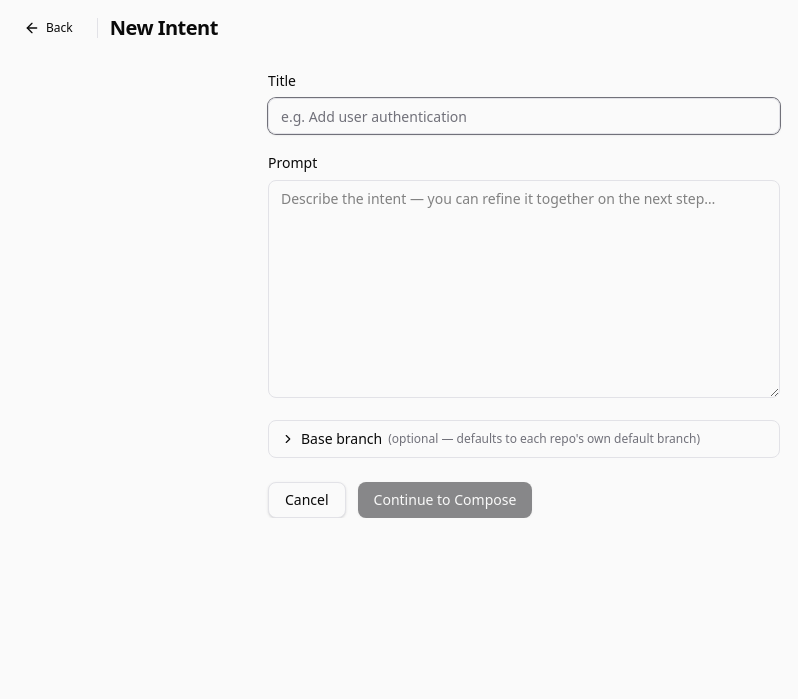
Scenario: NewIntentPage — base branch selection › fetches each repo branch list once the section is expanded
This screenshot has width=798, height=699.
Click the button "Base branch" at {"x": 524, "y": 439}, box [269, 421, 779, 457]
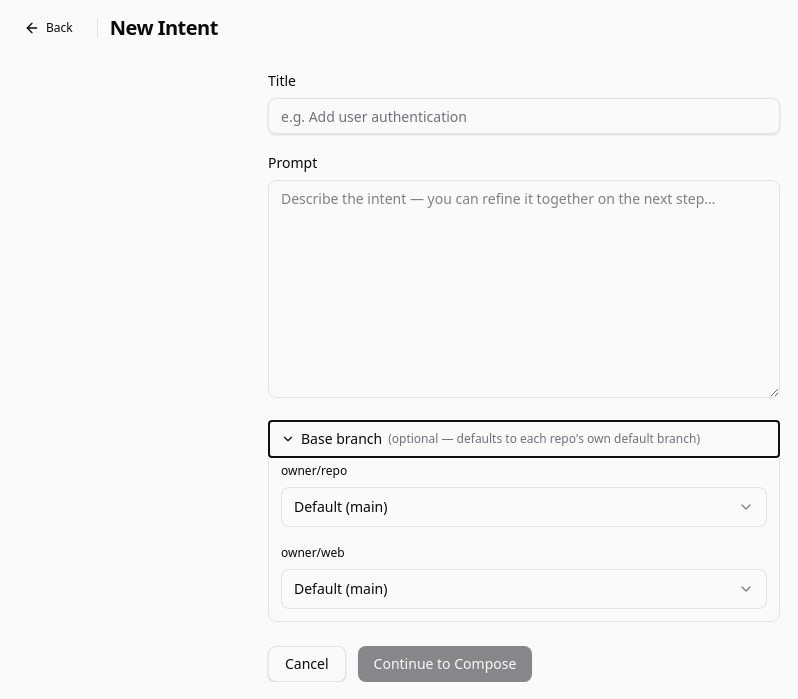
Result: the dropdown named "owner/repo" is shown at [281, 487, 767, 527]
Result: the dropdown named "owner/web" is shown at [281, 569, 767, 609]
